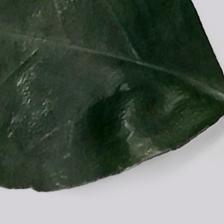healthy: (5, 3, 204, 162)
